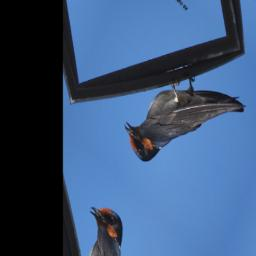Swallow: (119, 27, 247, 220)
